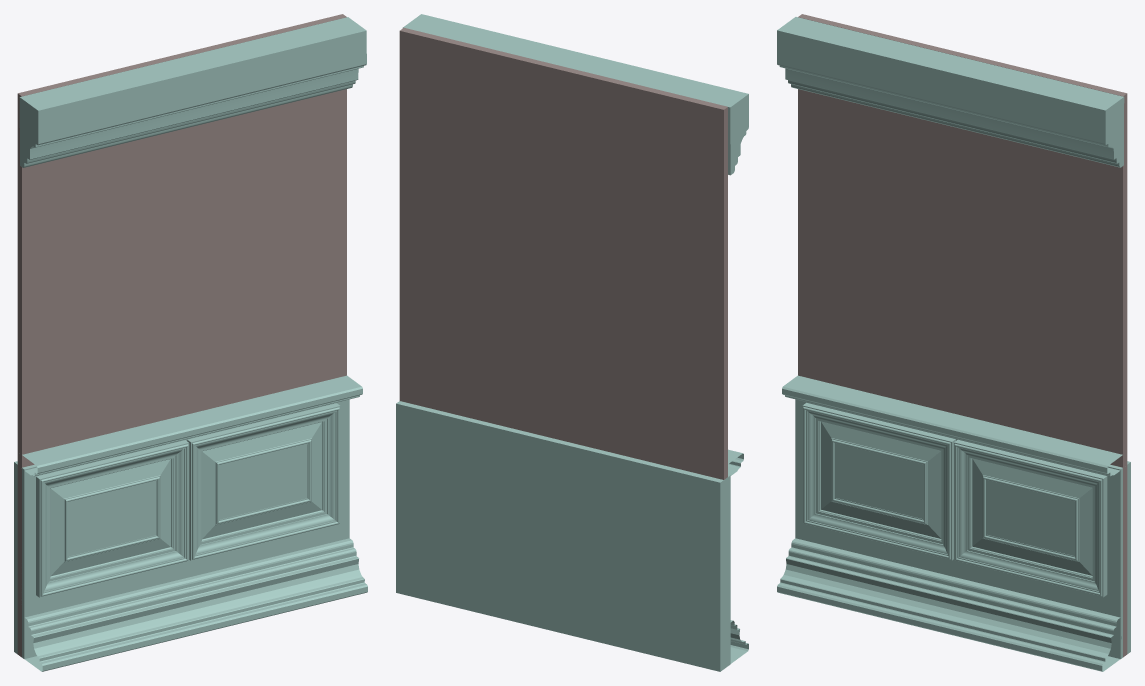
Rendered from pared.fbx.
The picture shows the model from 3 angles, left to right: view 1: azimuth 30°, elevation 25°; view 2: azimuth 150°, elevation 25°; view 3: azimuth 330°, elevation 25°; orthographic projection.
Visible parts, largest first — view 1: pared; view 2: pared; view 3: pared.
Part boxes in pixels (x1,y1,x2,y2): pared: (14,14,367,671); pared: (396,14,748,671); pared: (777,14,1130,671).
Size of the model in its own units: 75.41 by 123 by 11.42.
